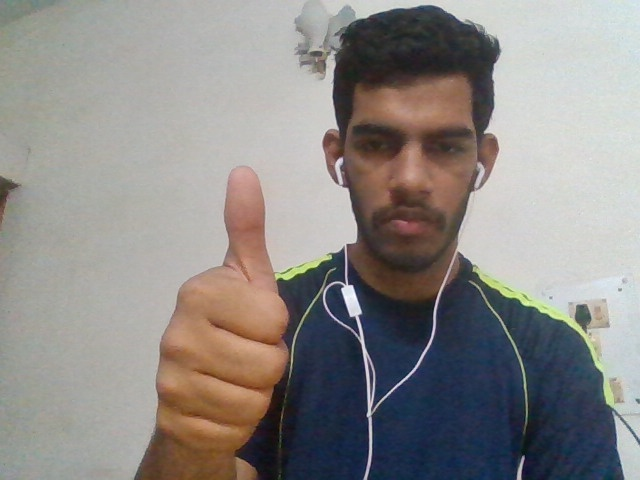yes: (109, 148, 324, 455)
